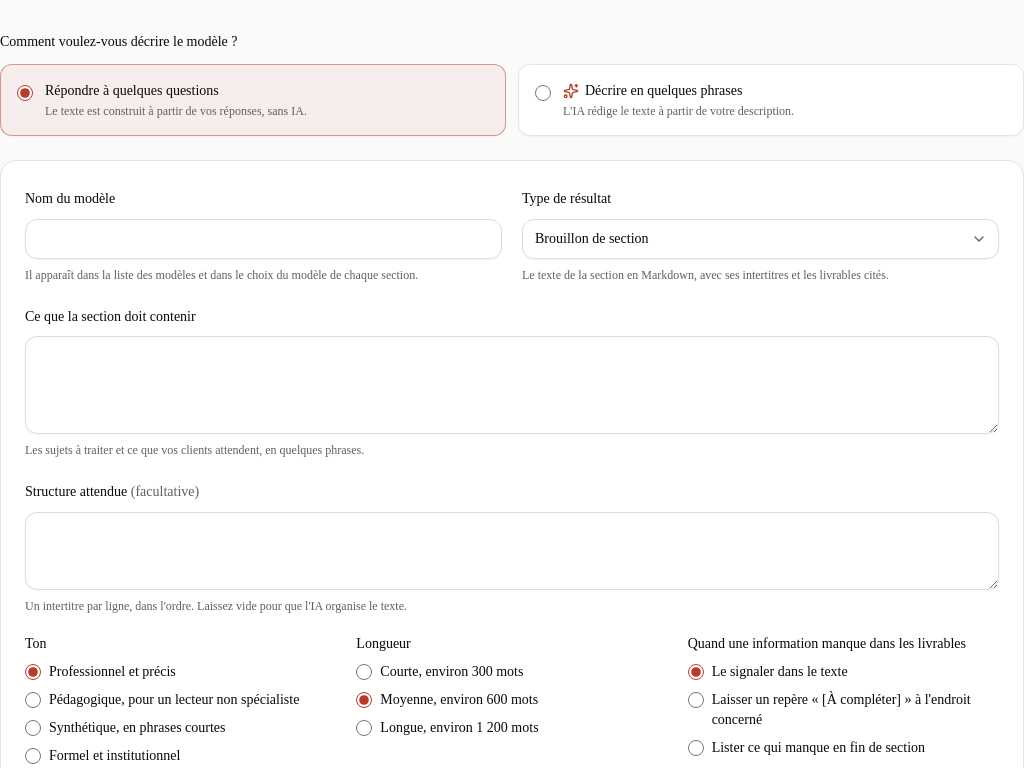
DescribeTemplate, with the AI › says when the daily limit is reached
Click the radio button labelled "Décrire en quelques phrases".
click(543, 93)  # box [535,85,551,101]
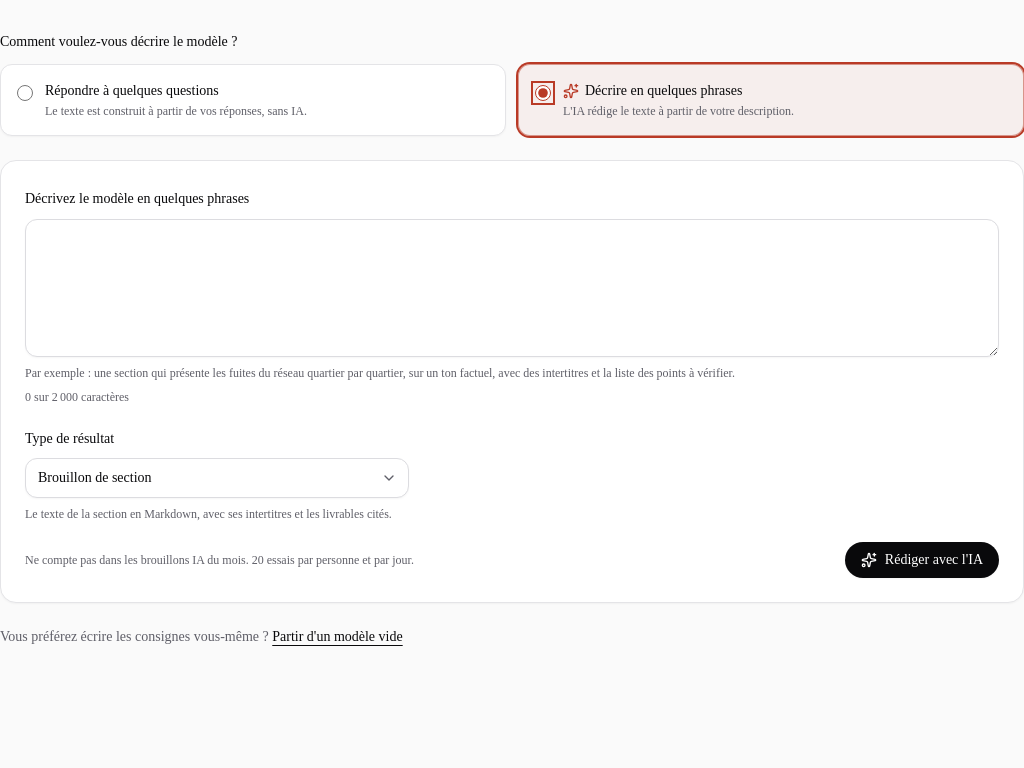
Type "Une section sur les coûts de maintenance du réseau." into the text box labelled "Décrivez le modèle en quelques phrases".
click(512, 288); type("Une section sur les coûts de maintenance du réseau.")  # box [25,219,999,357]
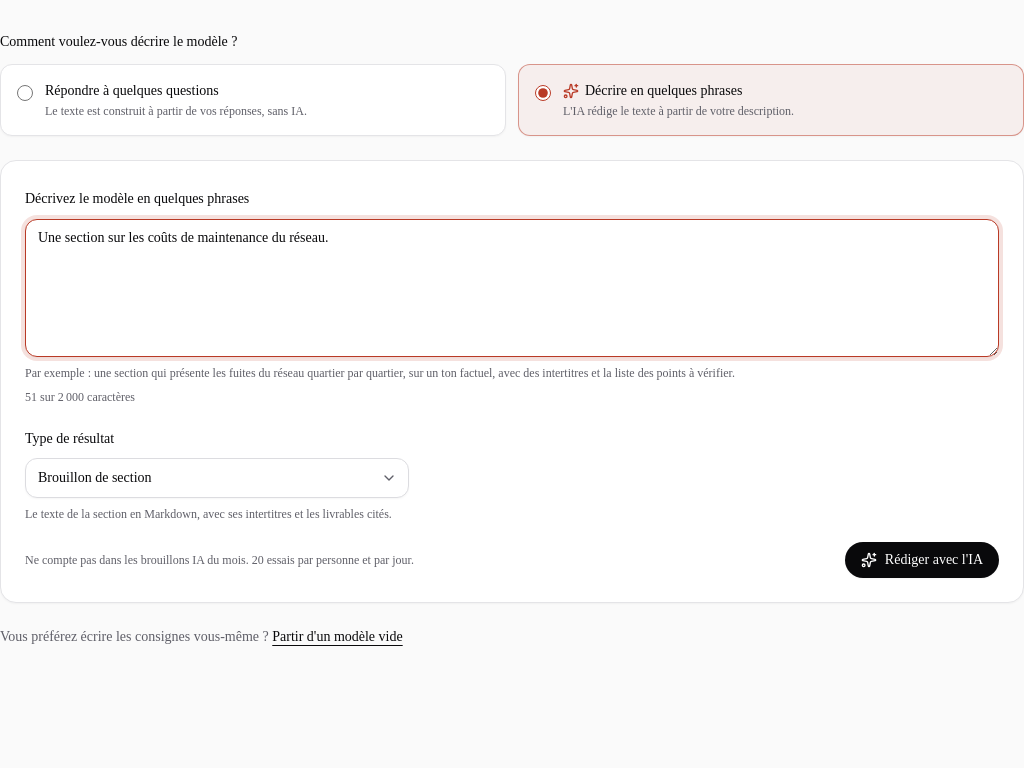
Click the button "Rédiger avec l'IA".
click(922, 560)  # box [845,542,999,578]
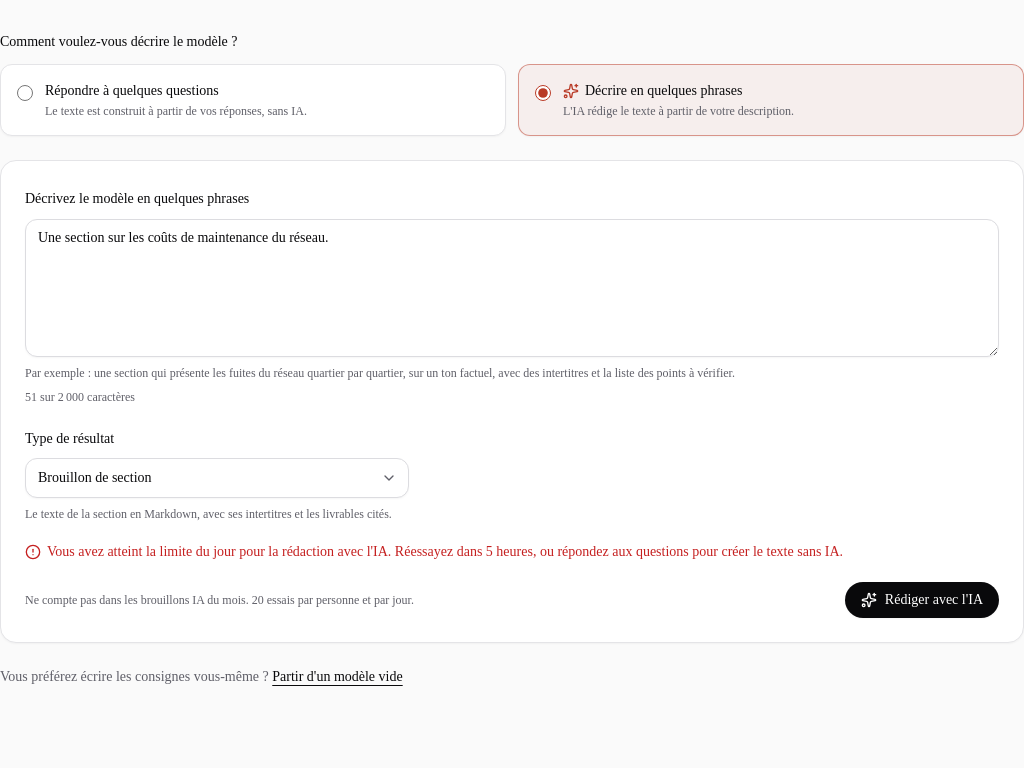
Expected: the message shows "Vous avez atteint la limite du jour pour la rédaction avec l'IA. Réessayez dans 5 heures", [47,544,843,559]
